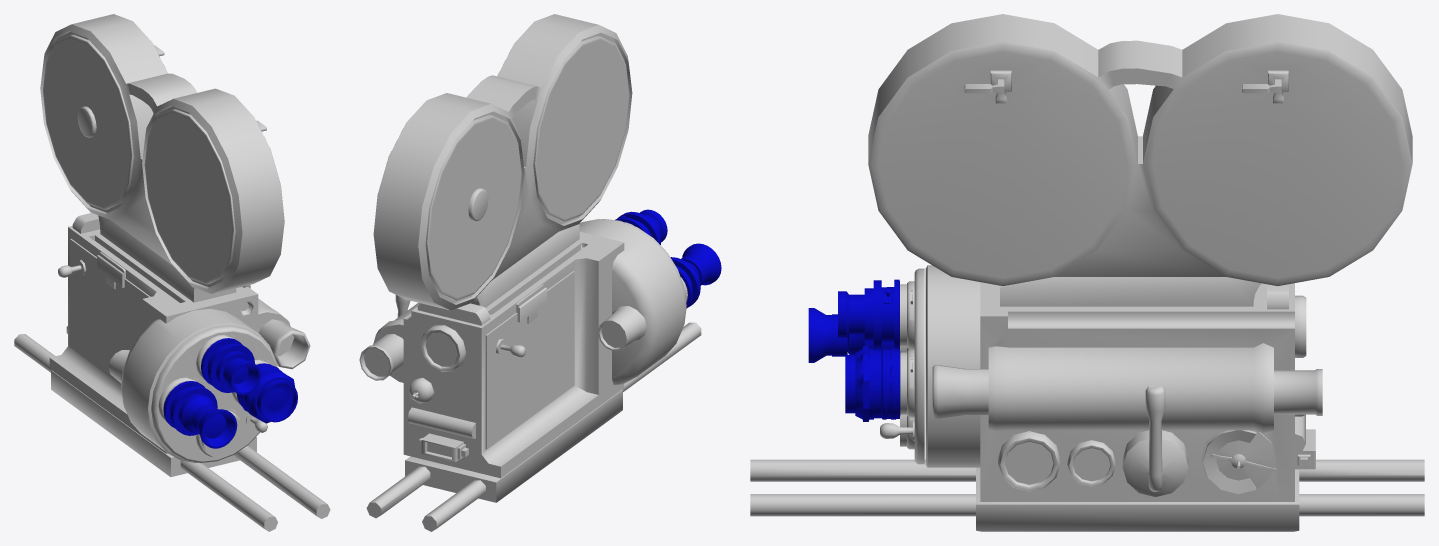
The model's file is Vintage Film Camera Animatable.fbx.
The picture shows the model from 3 angles, left to right: view 1: azimuth 30°, elevation 25°; view 2: azimuth 150°, elevation 25°; view 3: azimuth 270°, elevation 25°; orthographic projection. The views are drawn at different scales.
Parts seen in each view (by area): view 1: Cube, Cube.002; view 2: Cube, Cube.002; view 3: Cube, Cube.002, Cube.001.
Boxes of the visible parts, left/top/right/bottom form: Cube: left=14, top=14, right=330, bottom=531; Cube.002: left=151, top=326, right=297, bottom=463; Cube: left=359, top=14, right=701, bottom=531; Cube.002: left=601, top=209, right=721, bottom=326; Cube: left=750, top=14, right=1424, bottom=531; Cube.002: left=808, top=268, right=924, bottom=464; Cube.001: left=1145, top=384, right=1165, bottom=491.
Size of the model in its own units: 39.92 by 72.52 by 91.73.
